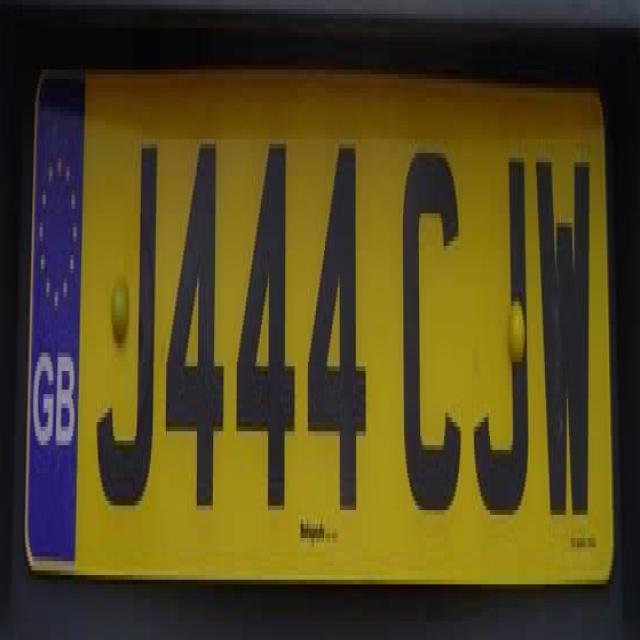Autre: (26, 80, 614, 580)
